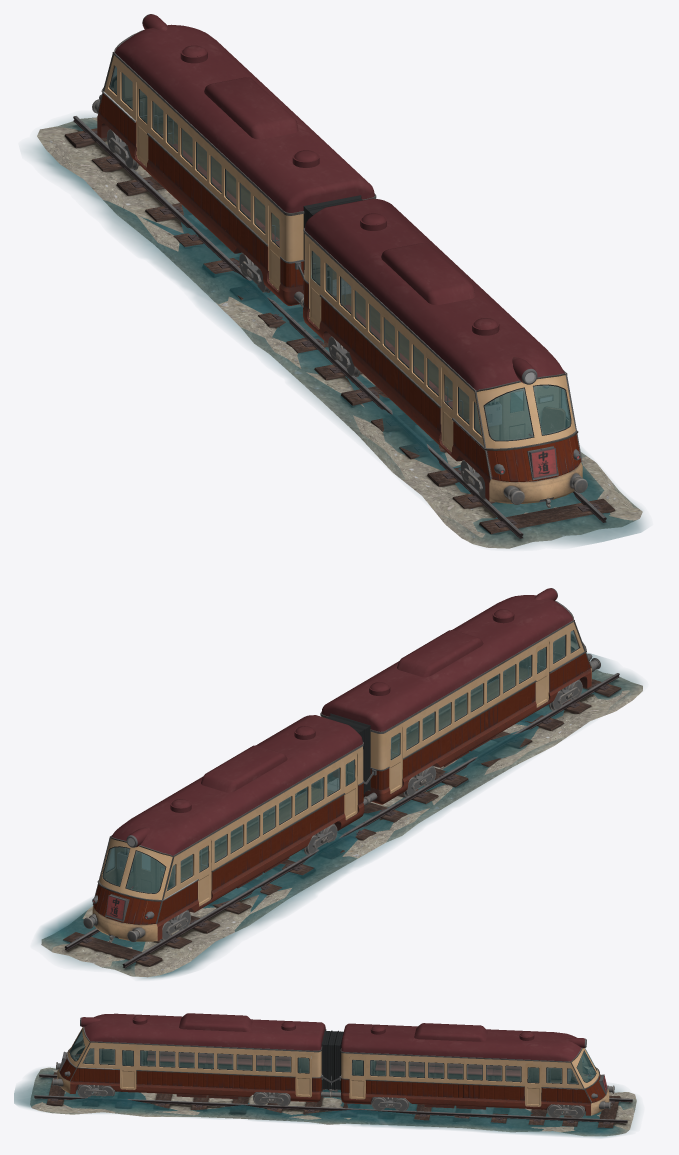
The picture shows the model from 3 angles, top to bottom: view 1: azimuth 30°, elevation 25°; view 2: azimuth 150°, elevation 25°; view 3: azimuth 270°, elevation 25°; orthographic projection. The views are drawn at different scales.
Parts seen in each view (by area): view 1: Roof_Low, Middle_Low, Ground, Wave, Glass_Low, Bottom_Low, Planes, Interior_SM_Low, Rails, MiddleNonSubdiv_Low, Interior_NM_Low, Interior_MNS_Low (+1 smaller); view 2: Roof_Low, Middle_Low, Ground, Wave, Glass_Low, Bottom_Low, Interior_SM_Low, Planes, Rails, MiddleNonSubdiv_Low, Interior_MNS_Low, Interior_NM_Low (+1 smaller); view 3: Middle_Low, Roof_Low, Wave, Ground, Glass_Low, Bottom_Low, Interior_SM_Low, Planes, Rails, MiddleNonSubdiv_Low, Interior_MNS_Low, Interior_NM_Low (+1 smaller).
Part boxes in pixels (bbox=[...]): Roof_Low: bbox=[115, 14, 565, 390]; Middle_Low: bbox=[97, 30, 582, 481]; Ground: bbox=[37, 117, 642, 548]; Wave: bbox=[28, 115, 645, 547]; Glass_Low: bbox=[109, 66, 570, 440]; Bottom_Low: bbox=[92, 99, 587, 507]; Planes: bbox=[64, 128, 614, 534]; Interior_SM_Low: bbox=[111, 74, 571, 450]; Rails: bbox=[73, 116, 606, 538]; MiddleNonSubdiv_Low: bbox=[98, 93, 558, 480]; Interior_NM_Low: bbox=[113, 79, 565, 439]; Interior_MNS_Low: bbox=[109, 66, 571, 441]; Roof_Low: bbox=[111, 588, 573, 855]; Middle_Low: bbox=[92, 600, 592, 924]; Ground: bbox=[41, 669, 642, 977]; Wave: bbox=[38, 652, 640, 979]; Glass_Low: bbox=[103, 630, 578, 893]; Bottom_Low: bbox=[83, 658, 600, 942]; Interior_SM_Low: bbox=[103, 634, 584, 892]; Planes: bbox=[63, 679, 621, 966]; Rails: bbox=[64, 673, 619, 967]; MiddleNonSubdiv_Low: bbox=[105, 653, 590, 922]; Interior_MNS_Low: bbox=[102, 630, 579, 893]; Interior_NM_Low: bbox=[117, 648, 545, 892]; Middle_Low: bbox=[59, 1026, 607, 1106]; Roof_Low: bbox=[80, 1013, 586, 1061]; Wave: bbox=[14, 1068, 636, 1137]; Ground: bbox=[30, 1067, 636, 1136]; Glass_Low: bbox=[70, 1030, 596, 1083]; Bottom_Low: bbox=[52, 1062, 614, 1118]; Interior_SM_Low: bbox=[71, 1040, 591, 1100]; Planes: bbox=[46, 1072, 620, 1128]; Rails: bbox=[34, 1074, 632, 1123]; MiddleNonSubdiv_Low: bbox=[59, 1051, 607, 1103]; Interior_MNS_Low: bbox=[69, 1029, 596, 1084]; Interior_NM_Low: bbox=[72, 1049, 594, 1083].
Size of the model in its own units: 25.35 by 12.52 by 87.06.
3 materials, 3 textured.
